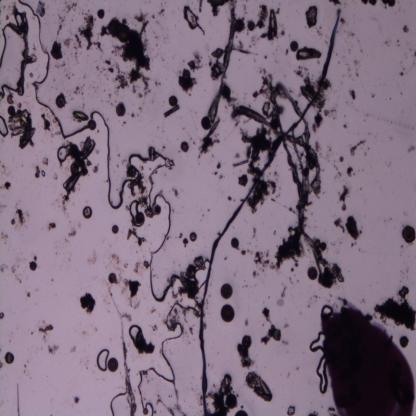Air bubble: (17, 0, 89, 136), (145, 185, 186, 307), (138, 323, 190, 416), (93, 108, 132, 217), (0, 15, 23, 96), (316, 356, 330, 395), (110, 391, 131, 416), (310, 330, 326, 353), (183, 6, 197, 30), (96, 348, 109, 372), (57, 144, 70, 163), (0, 112, 9, 138), (129, 201, 140, 220), (129, 324, 140, 340), (321, 305, 334, 315), (42, 170, 46, 177)
Background material: (109, 11, 152, 100), (298, 228, 344, 286), (370, 295, 416, 332), (240, 124, 272, 175), (272, 228, 304, 272), (71, 11, 96, 64), (247, 175, 278, 214), (252, 62, 282, 102), (209, 370, 234, 416), (75, 134, 99, 178), (121, 273, 144, 311), (128, 172, 150, 208), (168, 278, 198, 304), (175, 273, 199, 304), (183, 250, 206, 280), (198, 135, 221, 164), (5, 111, 29, 137), (209, 47, 226, 80), (171, 382, 187, 416), (260, 322, 281, 346), (108, 253, 128, 277), (344, 214, 361, 242), (235, 39, 259, 58), (178, 76, 198, 98), (207, 0, 230, 19), (337, 182, 350, 213), (186, 48, 202, 73), (237, 343, 252, 369), (79, 292, 95, 316), (138, 336, 157, 356), (256, 1, 269, 29), (166, 308, 183, 329), (38, 319, 54, 341), (305, 5, 319, 30), (349, 139, 367, 158), (127, 229, 146, 247), (14, 206, 28, 230), (13, 379, 22, 416), (49, 40, 64, 62), (259, 99, 274, 120), (156, 398, 173, 416), (162, 104, 181, 120), (82, 245, 96, 266), (254, 250, 272, 266), (311, 109, 322, 133), (108, 42, 124, 58), (278, 283, 288, 308), (60, 189, 70, 212), (294, 64, 310, 78), (245, 372, 259, 388), (46, 342, 62, 356), (42, 112, 52, 133), (397, 284, 410, 300), (249, 30, 260, 48), (146, 206, 164, 217), (65, 0, 78, 14), (91, 39, 103, 54), (237, 173, 249, 188), (133, 260, 148, 272), (163, 156, 176, 169), (68, 225, 79, 240), (334, 218, 345, 233), (0, 230, 11, 245), (324, 107, 338, 118), (148, 145, 158, 160), (231, 160, 249, 168), (197, 0, 207, 14), (262, 307, 271, 322), (229, 97, 240, 109), (11, 272, 23, 283), (303, 75, 315, 86), (100, 25, 110, 38), (346, 166, 356, 178), (285, 406, 297, 416), (0, 161, 8, 176), (0, 180, 10, 191), (147, 321, 157, 332), (63, 38, 72, 50), (74, 85, 83, 97), (142, 367, 150, 380), (122, 312, 132, 322), (48, 222, 58, 232), (343, 29, 355, 37), (314, 141, 322, 153), (316, 25, 324, 37), (33, 164, 40, 177), (251, 225, 257, 240), (266, 26, 272, 41), (72, 395, 81, 405), (323, 78, 332, 88), (407, 144, 416, 154), (197, 26, 205, 37), (172, 186, 180, 197), (56, 24, 62, 38), (329, 0, 343, 6), (348, 90, 356, 100), (41, 155, 48, 166), (92, 164, 99, 175), (402, 25, 410, 34), (28, 58, 40, 64), (0, 311, 7, 321), (0, 263, 10, 270), (251, 269, 259, 277), (107, 66, 115, 74), (380, 0, 388, 8), (12, 263, 18, 273), (306, 411, 318, 416), (288, 276, 294, 286), (353, 58, 360, 66), (260, 32, 268, 39), (274, 6, 281, 14), (59, 13, 66, 21), (334, 171, 341, 179), (215, 162, 222, 170), (331, 163, 338, 171), (53, 172, 59, 181), (160, 144, 166, 153), (183, 238, 189, 247), (194, 309, 200, 318), (91, 85, 97, 94), (368, 0, 377, 6), (289, 207, 296, 214), (59, 62, 67, 68), (384, 40, 390, 48), (270, 262, 276, 270), (326, 146, 332, 154), (140, 164, 146, 172), (17, 102, 22, 111), (285, 48, 290, 57), (103, 60, 112, 65), (158, 8, 164, 15), (240, 247, 246, 254), (154, 82, 161, 88), (234, 153, 241, 159), (70, 346, 76, 353), (243, 2, 247, 12), (358, 46, 364, 52), (340, 18, 346, 24), (324, 154, 330, 160), (26, 291, 32, 297), (361, 0, 368, 5), (347, 47, 352, 54), (282, 323, 289, 328), (258, 266, 265, 271), (151, 12, 155, 20), (132, 111, 136, 119), (245, 318, 249, 326), (178, 232, 182, 240), (64, 240, 70, 245), (346, 66, 351, 72), (290, 267, 296, 272), (370, 93, 376, 98), (227, 195, 232, 201), (154, 34, 160, 39), (386, 161, 391, 167), (345, 61, 351, 66), (413, 48, 416, 58), (51, 275, 55, 282), (30, 72, 34, 79), (234, 121, 239, 126), (96, 65, 100, 71), (281, 30, 285, 36), (66, 74, 70, 80), (355, 72, 359, 78), (24, 362, 26, 374), (359, 186, 363, 192), (250, 250, 254, 256), (220, 174, 224, 180), (30, 330, 34, 336), (324, 39, 328, 45), (364, 151, 367, 158), (344, 99, 348, 104), (36, 87, 40, 92), (400, 244, 404, 249), (344, 124, 349, 128), (125, 207, 129, 212), (246, 249, 250, 254), (350, 243, 354, 248), (193, 141, 197, 146), (283, 341, 288, 345), (207, 207, 211, 212), (214, 171, 218, 176), (224, 256, 228, 261), (161, 57, 165, 62), (121, 122, 127, 125), (398, 6, 401, 12), (1, 362, 4, 368), (336, 30, 340, 34), (367, 132, 371, 136), (139, 108, 143, 112), (274, 58, 278, 62), (400, 72, 404, 76), (54, 118, 57, 123), (357, 39, 360, 44), (360, 230, 363, 235), (274, 230, 277, 235), (248, 104, 251, 109), (84, 72, 86, 79), (109, 92, 111, 98), (407, 267, 409, 273), (106, 100, 110, 103), (338, 60, 341, 64), (102, 89, 106, 92), (264, 57, 268, 60), (367, 147, 370, 151), (116, 163, 119, 167), (400, 91, 403, 95), (297, 263, 300, 267), (218, 232, 221, 236), (396, 44, 400, 47), (342, 75, 346, 78), (248, 242, 252, 245), (343, 40, 347, 43), (336, 51, 339, 55), (308, 303, 310, 308), (398, 0, 400, 5), (156, 43, 158, 48), (358, 248, 361, 251), (403, 67, 405, 71), (367, 113, 369, 117), (83, 105, 85, 109), (397, 38, 399, 42), (111, 102, 113, 106), (390, 217, 392, 221), (390, 97, 392, 100), (71, 19, 73, 22), (348, 75, 351, 77), (245, 285, 247, 287), (100, 71, 102, 73), (354, 174, 355, 176)
Cellulose filter fibre: (233, 106, 323, 195), (276, 82, 313, 231), (110, 286, 138, 416), (208, 0, 237, 120), (18, 6, 32, 96)
Cotton: (197, 10, 341, 416)
Diatom: (302, 86, 327, 107), (254, 378, 273, 402), (296, 48, 323, 62), (18, 127, 34, 149), (65, 172, 80, 191), (221, 304, 235, 324), (108, 18, 122, 38), (402, 226, 416, 245), (270, 9, 278, 40), (116, 25, 130, 42), (220, 282, 233, 300), (225, 393, 238, 410), (208, 119, 219, 137), (72, 111, 89, 122), (36, 0, 47, 16), (241, 334, 251, 350), (115, 103, 126, 117), (307, 266, 318, 280), (201, 115, 211, 130), (234, 17, 244, 32), (108, 357, 118, 372), (69, 142, 79, 157), (168, 95, 180, 107), (56, 93, 65, 109), (399, 336, 410, 347), (246, 19, 256, 31), (82, 206, 92, 218), (270, 118, 280, 130), (5, 352, 15, 364), (70, 162, 80, 174), (126, 165, 136, 176), (136, 212, 145, 224), (180, 141, 188, 154), (223, 85, 231, 98), (230, 238, 240, 248), (289, 40, 298, 51), (108, 272, 116, 284), (235, 409, 248, 416), (7, 106, 16, 116), (89, 119, 97, 130), (190, 232, 198, 242), (29, 261, 37, 271), (387, 0, 397, 8), (7, 94, 14, 105), (98, 8, 104, 20), (111, 225, 118, 235), (184, 70, 191, 79), (315, 238, 321, 248), (320, 243, 327, 251), (142, 407, 148, 415), (338, 157, 344, 162), (12, 219, 15, 224)
Pen: (316, 296, 414, 416)
